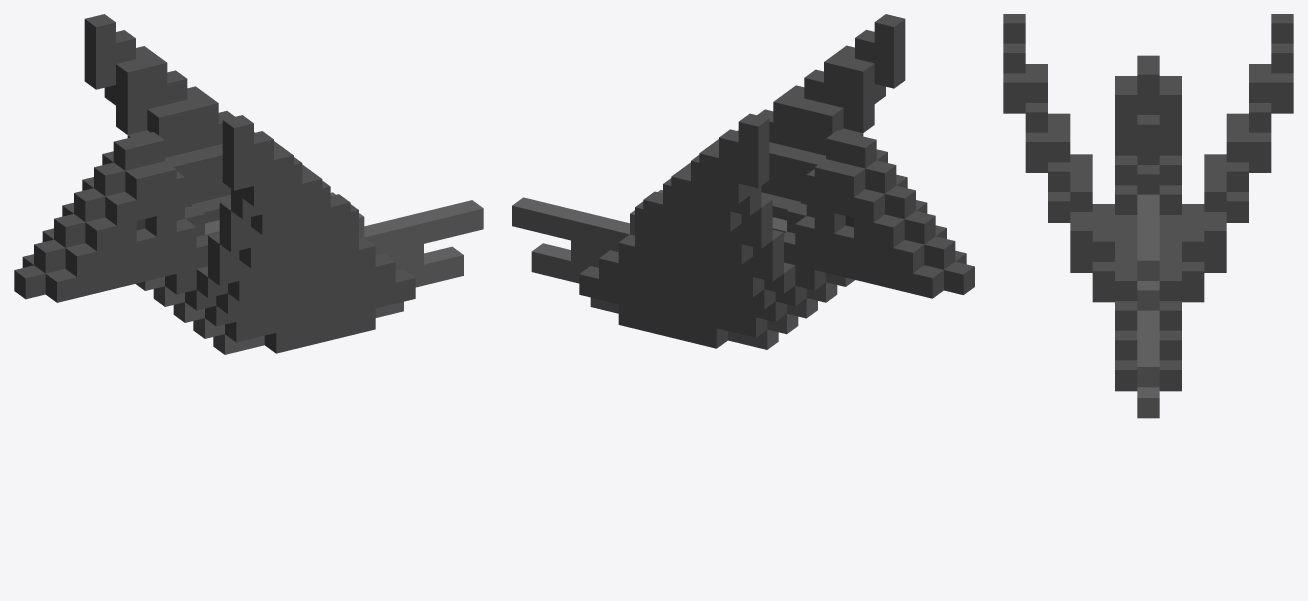
Rendered from 3d_chrome_bird_flying.obj.
The picture shows the model from 3 angles, left to right: view 1: azimuth 30°, elevation 25°; view 2: azimuth 150°, elevation 25°; view 3: azimuth 270°, elevation 25°; orthographic projection. The views are drawn at different scales.
Visible parts, largest first — view 1: Object_25; view 2: Object_25; view 3: Object_25.
Boxes of the visible parts, x1,y1,x2,y2 form: Object_25: [14, 14, 483, 354]; Object_25: [512, 14, 974, 349]; Object_25: [1003, 14, 1293, 418].
Bounding box in the file's own units: 2.3 × 2.6 × 1.3.
